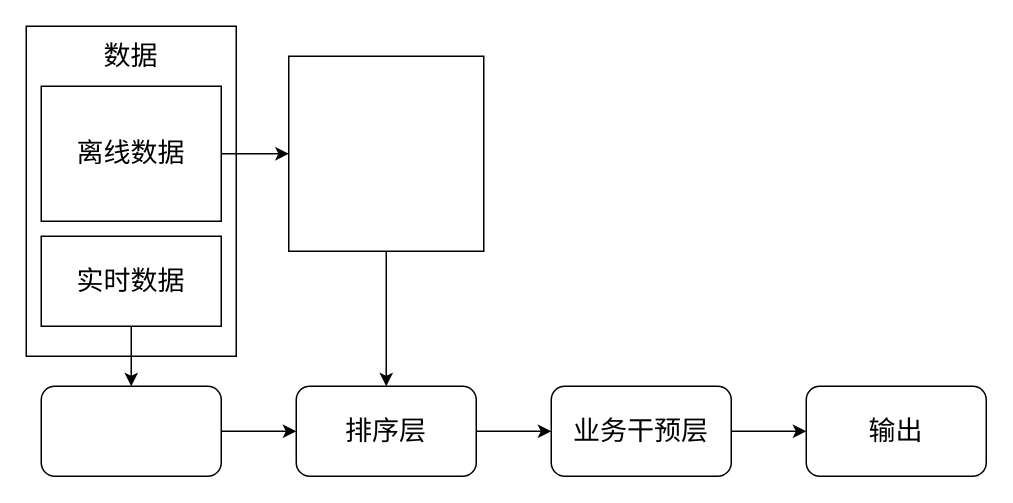
Some shapes in this 1013 by 503 pixel diagram are drawn without their labels. Each missing label, with the box of its shape:
召回层: (40, 385, 221, 476)
模型训练: (287, 55, 484, 251)
